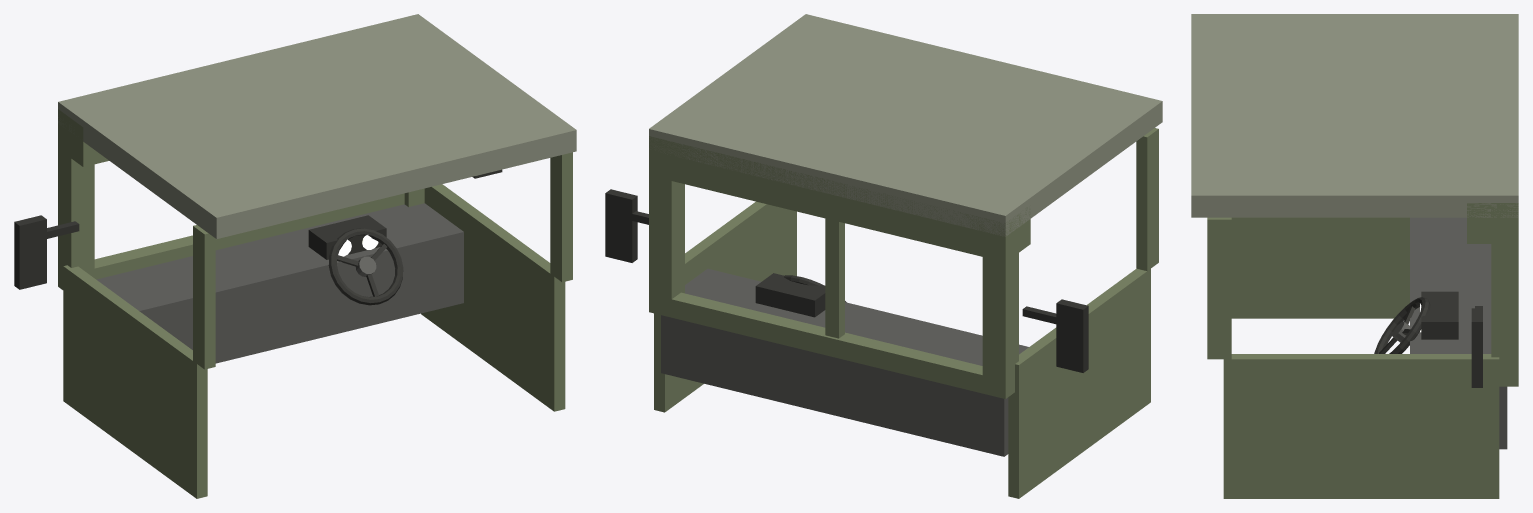
Rendered from cab.glb.
The picture shows the model from 3 angles, left to right: view 1: azimuth 30°, elevation 25°; view 2: azimuth 150°, elevation 25°; view 3: azimuth 270°, elevation 25°; orthographic projection. The views are drawn at different scales.
Parts seen in each view (by area): view 1: Cab, Wheel; view 2: Cab; view 3: Cab, Wheel.
Part boxes in pixels (bbox=[...]): Cab: bbox=[14, 14, 576, 498]; Wheel: bbox=[328, 228, 403, 305]; Cab: bbox=[605, 14, 1162, 498]; Cab: bbox=[1191, 14, 1518, 498]; Wheel: bbox=[1374, 297, 1430, 353].
Bounding box in the file's own units: 3.55 × 2.05 × 2.02.
